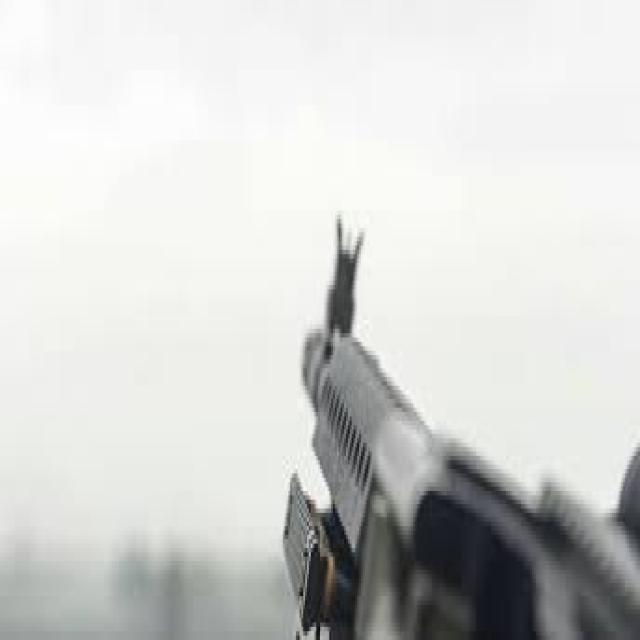Gun: (277, 181, 640, 640)
